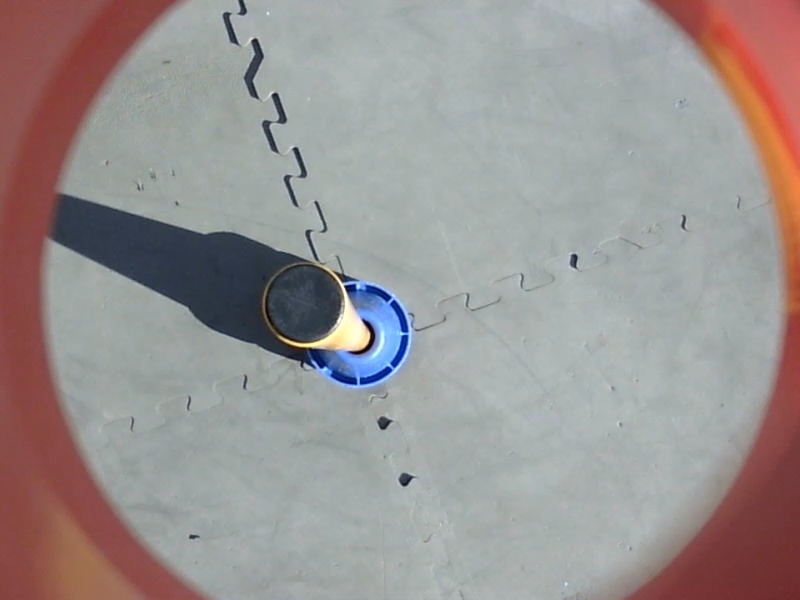tip: (257, 257, 350, 350)
